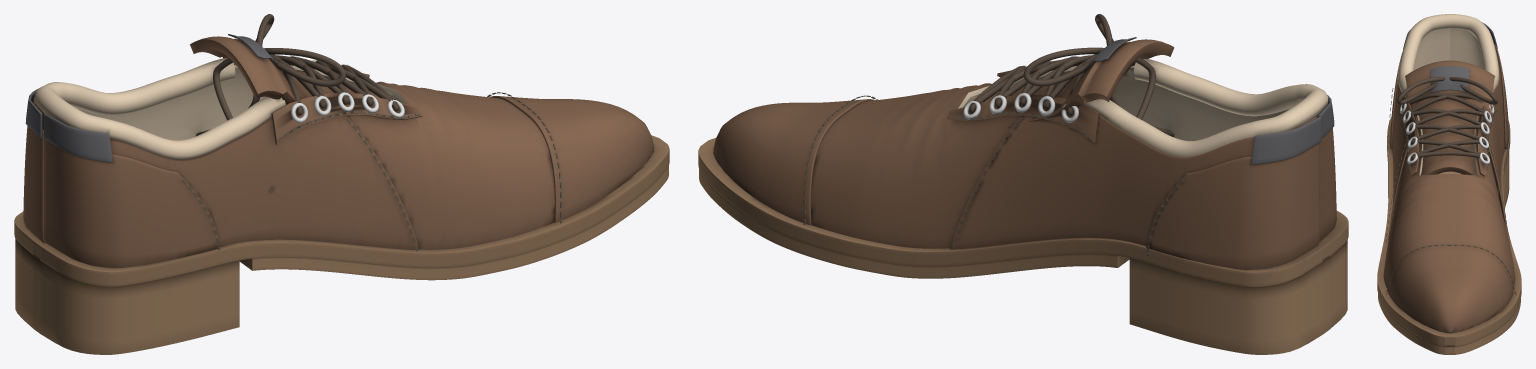
File: derby-captoe-hi.glb
The picture shows the model from 3 angles, left to right: view 1: azimuth 30°, elevation 25°; view 2: azimuth 150°, elevation 25°; view 3: azimuth 270°, elevation 25°; orthographic projection. The views are drawn at different scales.
Visible parts, largest first — view 1: upper, quarterL, heelL, heelblock, welt, toe, collar, outsole, laces, tongue, eyestayL, heelM (+3 smaller); view 2: upper, quarterM, heelM, heelblock, welt, toe, collar, outsole, laces, tongue, tabM, eyestayM (+2 smaller); view 3: upper, toe, tongue, welt, laces, collar, quarterM, outsole, quarterL, label, stitches, eyestayL (+4 smaller).
Boxes of the visible parts, x1,y1,x2,y2 form: upper: (76,64,554,249); quarterL: (48,114,418,250); heelL: (46,140,219,268); heelblock: (15,239,239,354); welt: (14,135,669,286); toe: (490,96,653,222); collar: (34,57,285,159); outsole: (239,165,668,280); laces: (196,14,398,191); tongue: (190,36,378,104); eyestayL: (271,92,422,144); heelM: (23,126,45,243); upper: (811,65,1288,248); quarterM: (950,114,1316,249); heelM: (1146,143,1319,269); heelblock: (1129,240,1347,354); welt: (698,138,1348,286); toe: (713,99,874,225); collar: (1083,59,1328,157); outsole: (699,169,1129,278); laces: (969,14,1174,136); tongue: (984,39,1174,127); tabM: (1251,117,1321,164); eyestayM: (946,94,1099,143); upper: (1383,28,1515,332); toe: (1388,244,1513,333); tongue: (1405,60,1495,175); welt: (1377,117,1521,346); laces: (1395,77,1497,160); collar: (1398,14,1499,97); quarterM: (1487,39,1507,235); outsole: (1378,177,1520,354); quarterL: (1388,81,1417,240); label: (1430,66,1469,92); stitches: (1385,88,1515,294); eyestayL: (1396,96,1419,175).
Bounding box in the file's own units: 0.307 × 0.113 × 0.0925.
